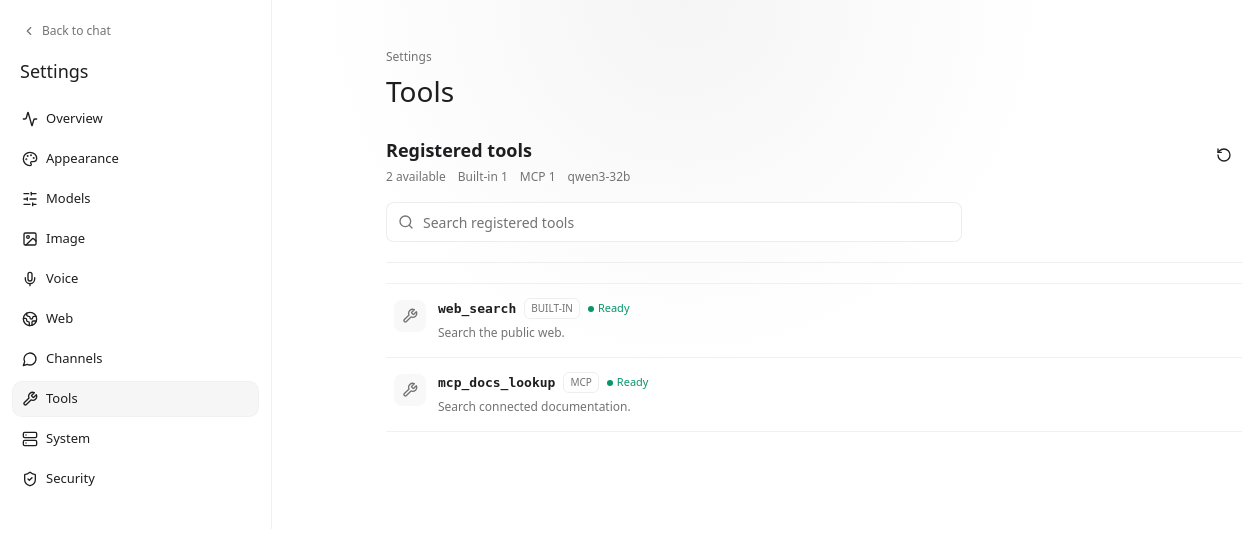
Test: SettingsView Apps catalog › shows the live registered tools and filters them
Expected: the heading "Registered tools" is shown, [386,138,532,162]
Expected: the text "web_search" is shown, [438,299,516,318]
Type "docs" into the field with placeholder "Search registered tools".
click(674, 222); type("docs")  # box [386,202,962,242]
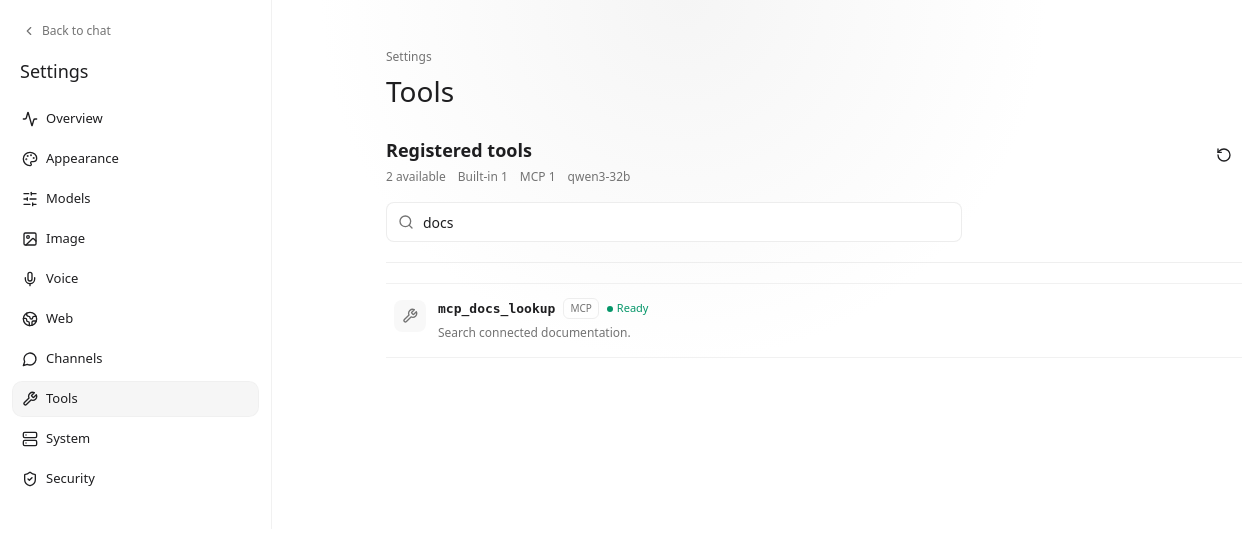
Expected: the text "mcp_docs_lookup" is shown, [438,299,555,318]
Now the text "web_search" is gone
